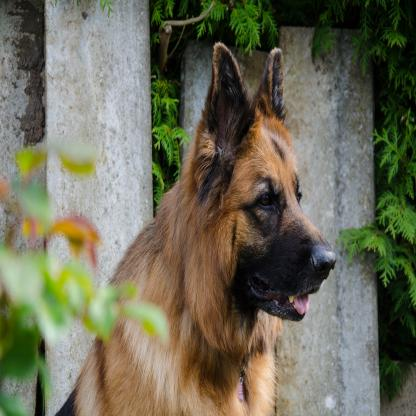german shepherd: (56, 46, 338, 416)
